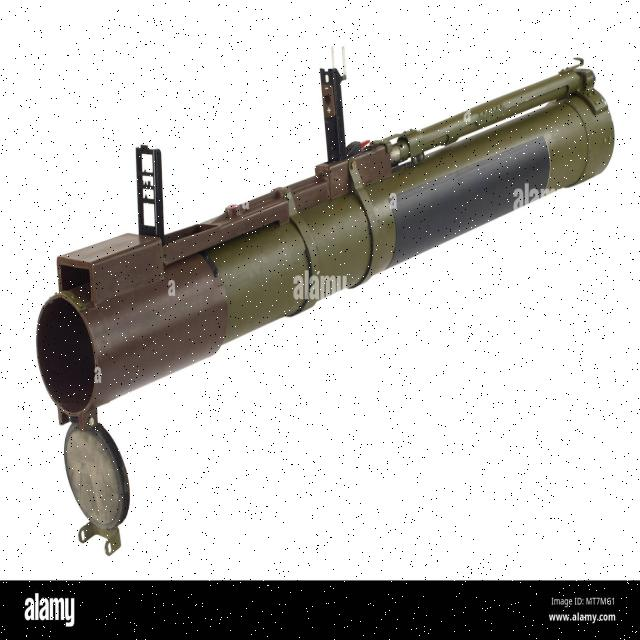bazooka: (37, 48, 617, 557)
